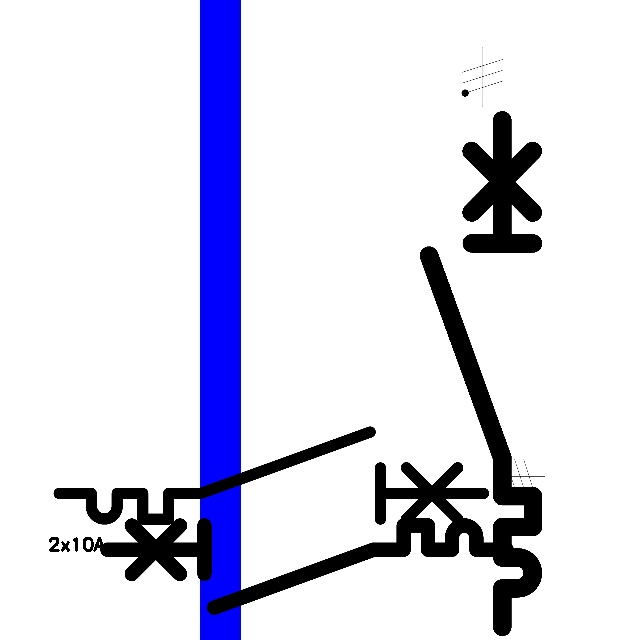interruptor_termomagnetico: (416, 107, 546, 640), (48, 421, 494, 530), (97, 515, 517, 618)
